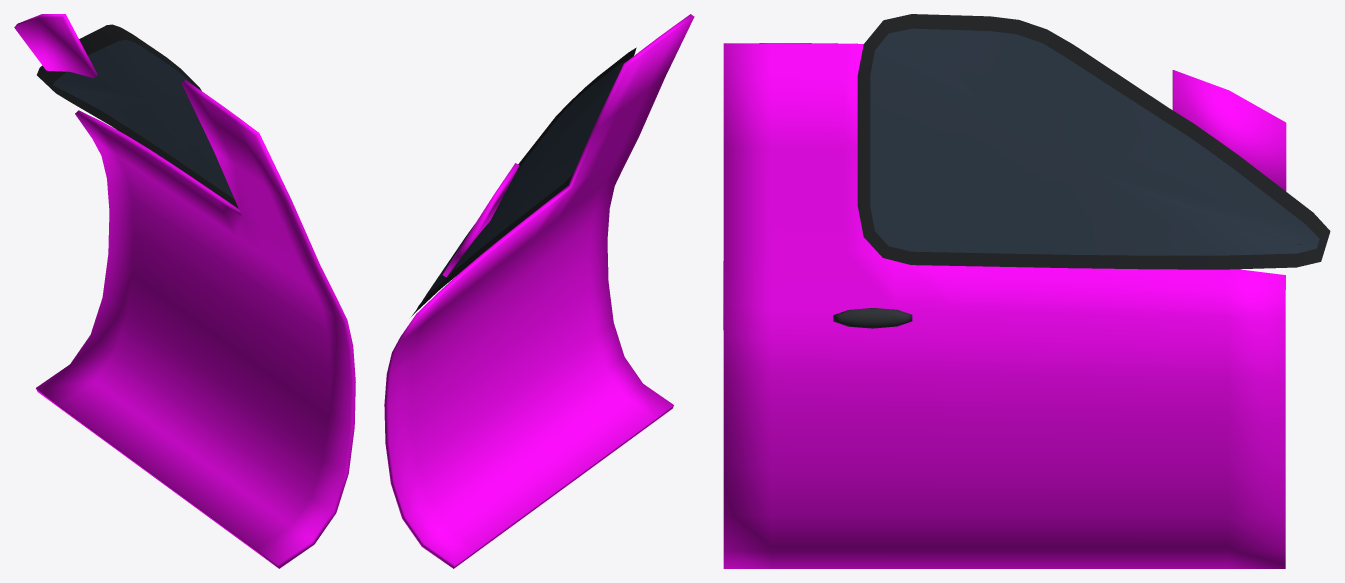
File: car-door-sedan.obj
3 views of the same model, side by side, from view 1: azimuth 30°, elevation 25°; view 2: azimuth 150°, elevation 25°; view 3: azimuth 270°, elevation 25° (orthographic). The views are drawn at different scales.
Visible parts, largest first — view 1: door, door_win_front.1.nocast, door_frame.win_front.1.nocast; view 2: door, door_win_front.1.nocast, door_frame.win_front.1.nocast; view 3: door, door_win_front.1.nocast, door_frame.win_front.1.nocast, door.handle.nocast.
Boxes of the visible parts, x1,y1,x2,y2 form: door: (14, 14, 355, 568); door_win_front.1.nocast: (53, 39, 234, 199); door_frame.win_front.1.nocast: (37, 24, 238, 208); door: (384, 14, 694, 568); door_win_front.1.nocast: (416, 61, 624, 309); door_frame.win_front.1.nocast: (411, 47, 636, 316); door: (723, 43, 1286, 568); door_win_front.1.nocast: (870, 28, 1319, 255); door_frame.win_front.1.nocast: (857, 14, 1330, 269); door.handle.nocast: (833, 308, 912, 328).
Size of the model in its own units: 0.2806 by 1.14 by 1.17.
